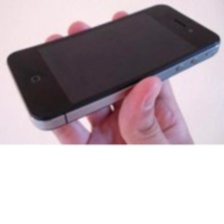phone: (3, 0, 223, 135)
